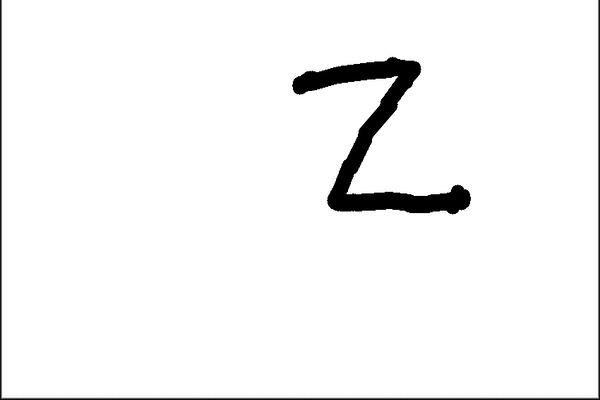Z: (288, 50, 475, 220)
